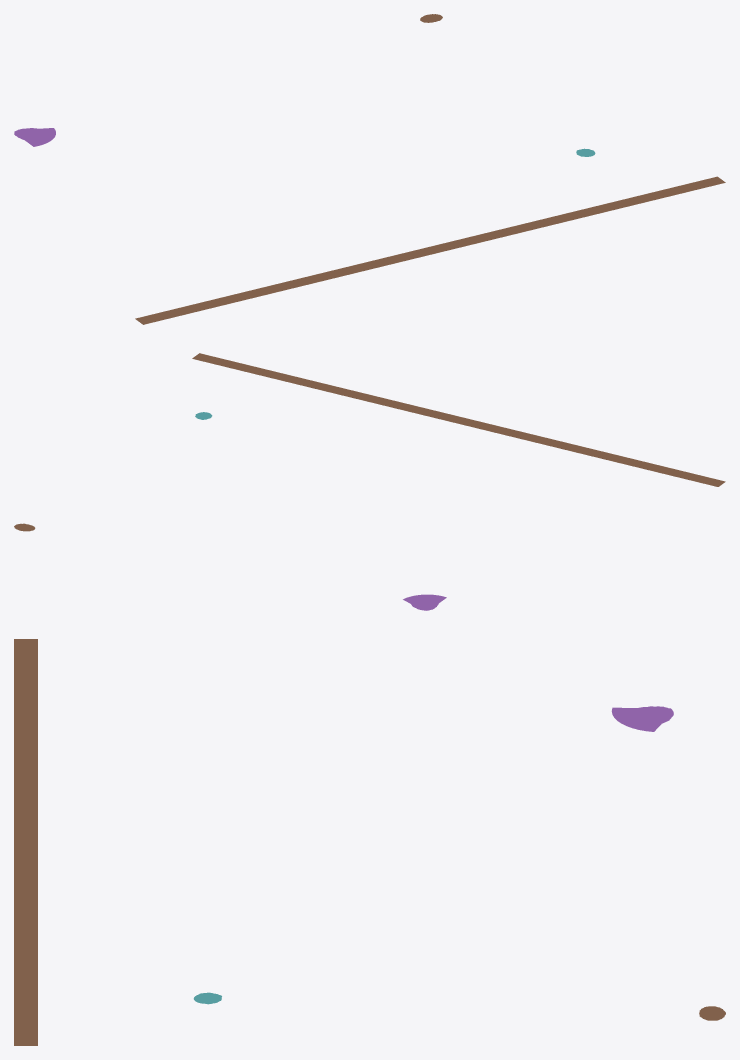
The model's file is GingerbreadVillage_Water.fbx.
The picture shows the model from 3 angles, top to bottom: view 1: azimuth 30°, elevation 25°; view 2: azimuth 150°, elevation 25°; view 3: azimuth 270°, elevation 25°; orthographic projection. The views are drawn at different scales.
Visible parts, largest first — view 1: GIN_Water_ChocolateStream, GIN_Water_PondLot_02; view 2: GIN_Water_ChocolateStream, GIN_Water_PondLot_02; view 3: GIN_Water_ChocolateStream, GIN_Water_PondLot_02.
Boxes of the visible parts, x1,y1,x2,y2 form: GIN_Water_ChocolateStream: [135, 176, 725, 324]; GIN_Water_PondLot_02: [14, 128, 55, 146]; GIN_Water_ChocolateStream: [192, 353, 725, 486]; GIN_Water_PondLot_02: [403, 594, 446, 610]; GIN_Water_ChocolateStream: [14, 639, 37, 1045]; GIN_Water_PondLot_02: [611, 706, 673, 731].
Size of the model in its own units: 380 by 1.68 by 281.
